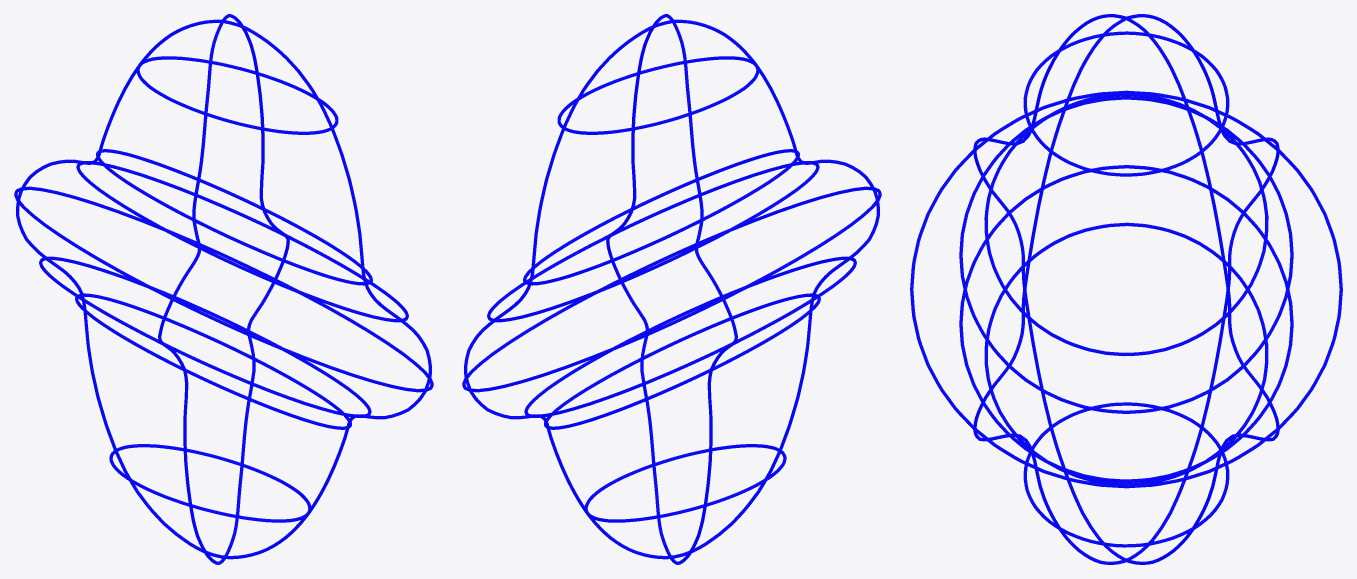
The model's file is flowrep_ellipsetorus.glb.
3 renders of one model, left to right at view 1: azimuth 30°, elevation 25°; view 2: azimuth 150°, elevation 25°; view 3: azimuth 270°, elevation 25°, orthographic.
Parts seen in each view (by area): view 1: flowrep_ellipsetorus; view 2: flowrep_ellipsetorus; view 3: flowrep_ellipsetorus.
Part boxes in pixels (box(x1,y1,x2,y2)): flowrep_ellipsetorus: box(14, 14, 433, 564); flowrep_ellipsetorus: box(462, 14, 881, 564); flowrep_ellipsetorus: box(910, 14, 1342, 564).
Bounding box in the file's own units: 0.4972 × 0.71 × 0.5123.
